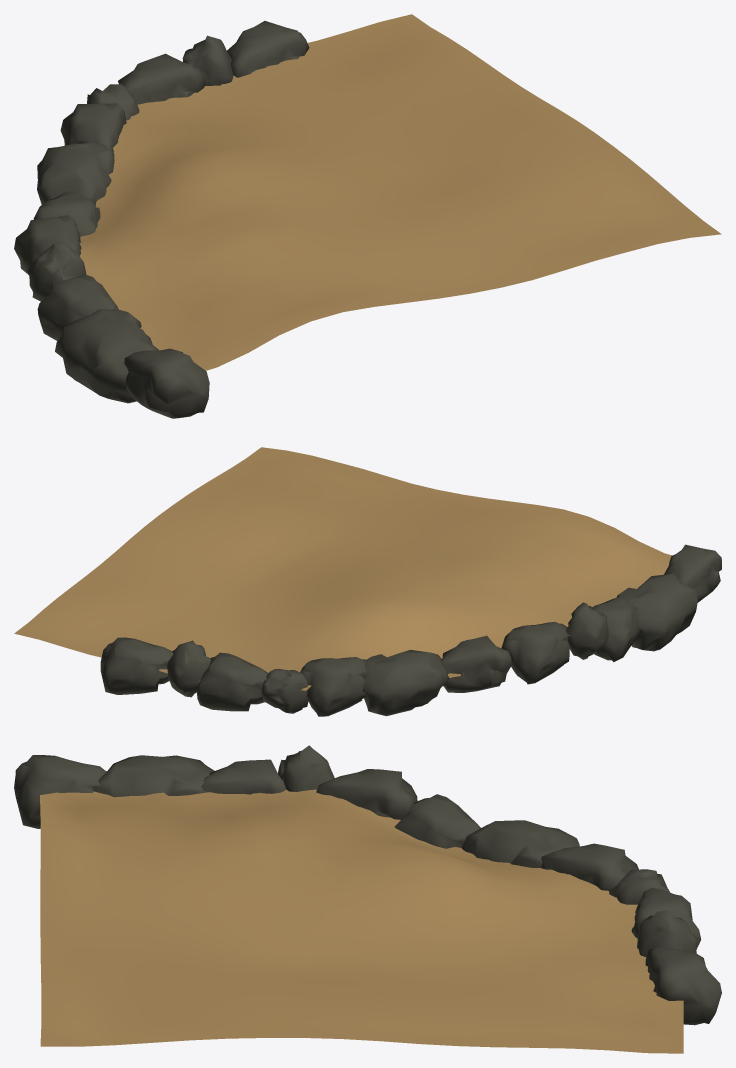
Rendered from small_ground_02.fbx.
3 renders of one model, top to bottom at view 1: azimuth 30°, elevation 25°; view 2: azimuth 150°, elevation 25°; view 3: azimuth 270°, elevation 25°, orthographic. The views are drawn at different scales.
Visible parts, largest first — view 1: polySurface_small_ground_02; view 2: polySurface_small_ground_02; view 3: polySurface_small_ground_02.
Part boxes in pixels (x1,y1,x2,y2): polySurface_small_ground_02: (14,14,721,418); polySurface_small_ground_02: (14,447,721,716); polySurface_small_ground_02: (14,745,721,1053).
Bounding box in the file's own units: 11544 × 1786 × 11560.
